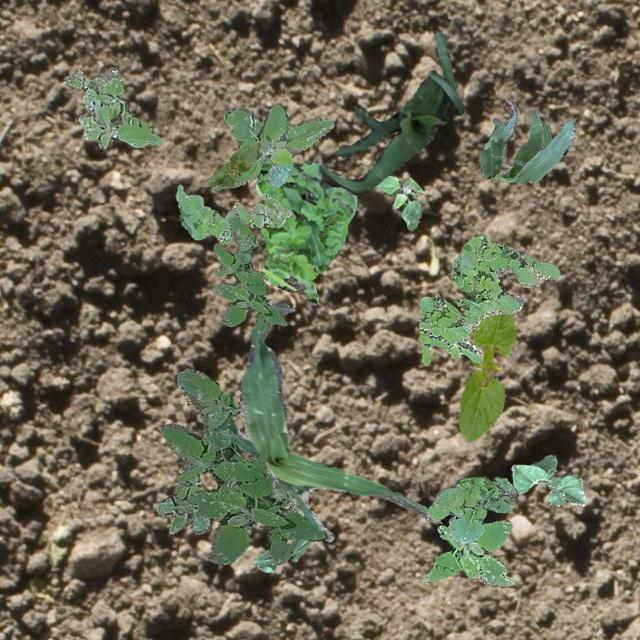crop: (229, 302, 426, 540), (317, 30, 463, 194), (478, 99, 574, 182), (458, 313, 516, 442), (510, 454, 584, 506), (204, 140, 258, 186), (252, 538, 310, 570)
weed: (162, 368, 326, 564), (418, 234, 558, 364), (254, 158, 356, 304), (212, 104, 332, 190), (210, 215, 286, 332), (62, 66, 160, 148), (174, 184, 290, 242), (422, 520, 514, 586), (426, 476, 516, 542), (156, 472, 210, 534), (374, 174, 424, 230), (266, 462, 296, 510)
